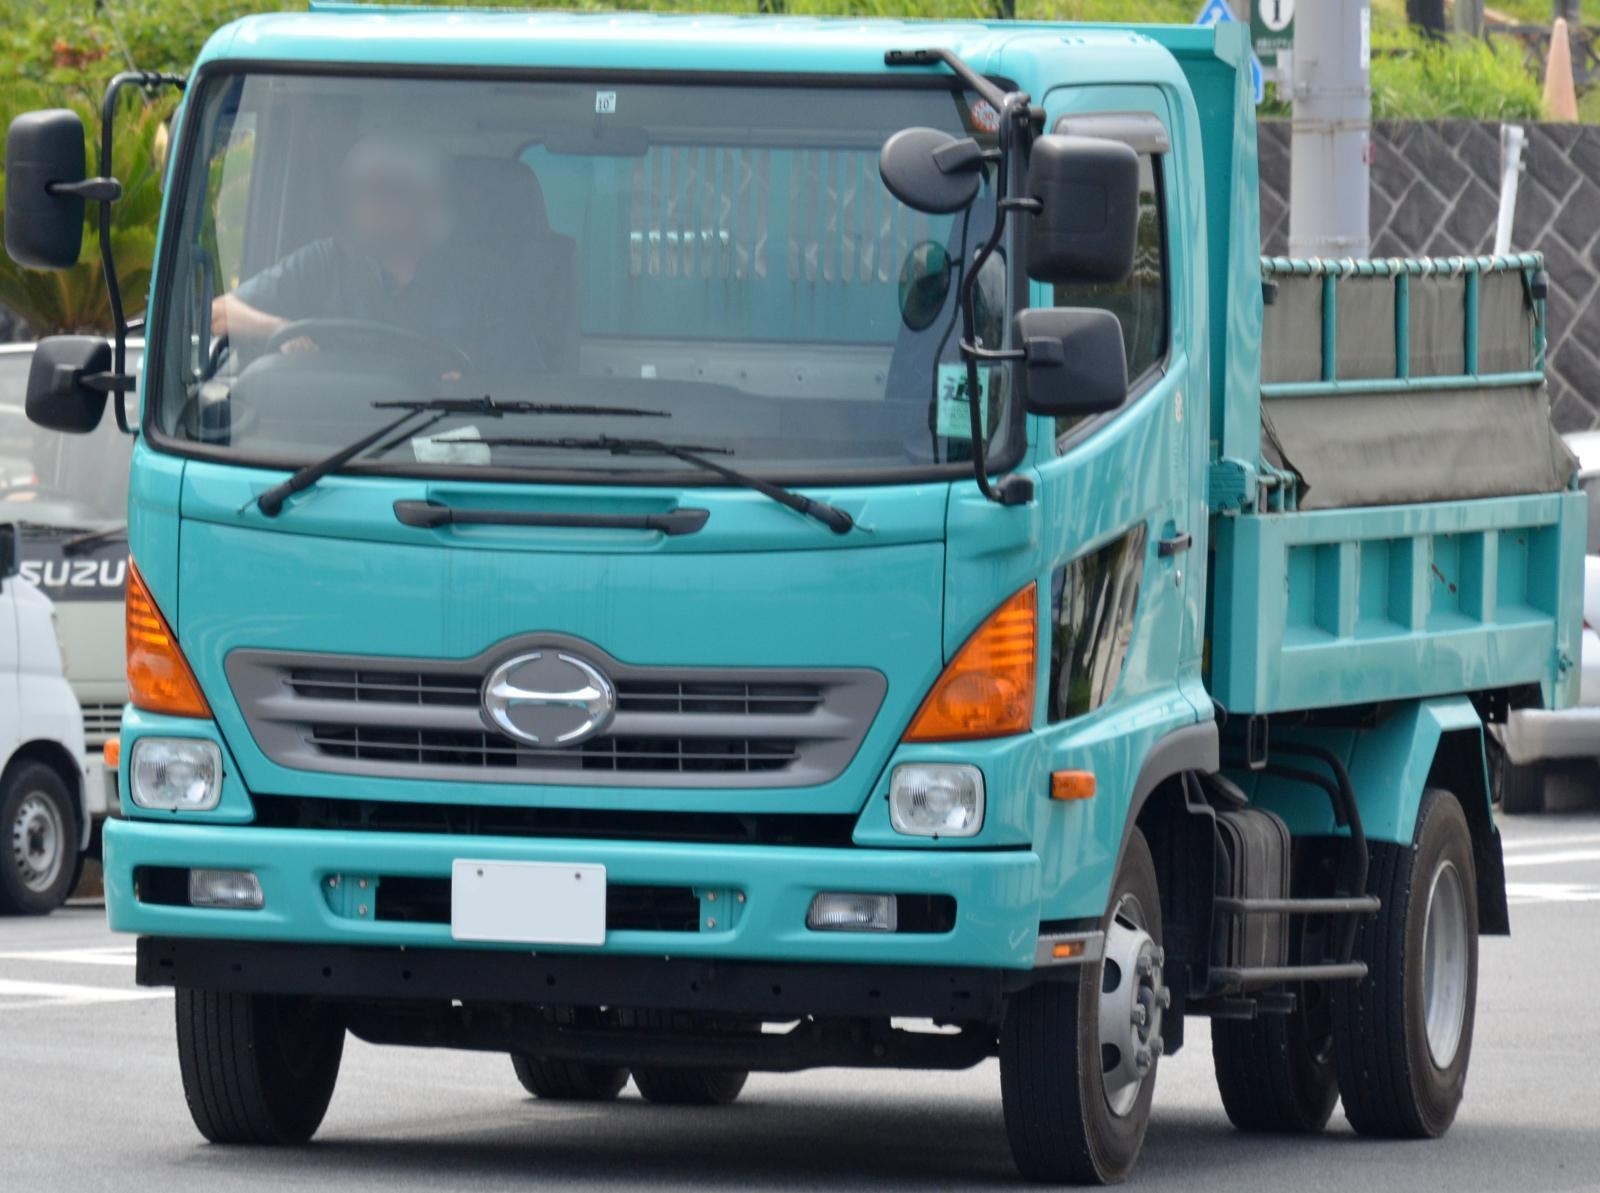truck: (89, 10, 1577, 1193)
